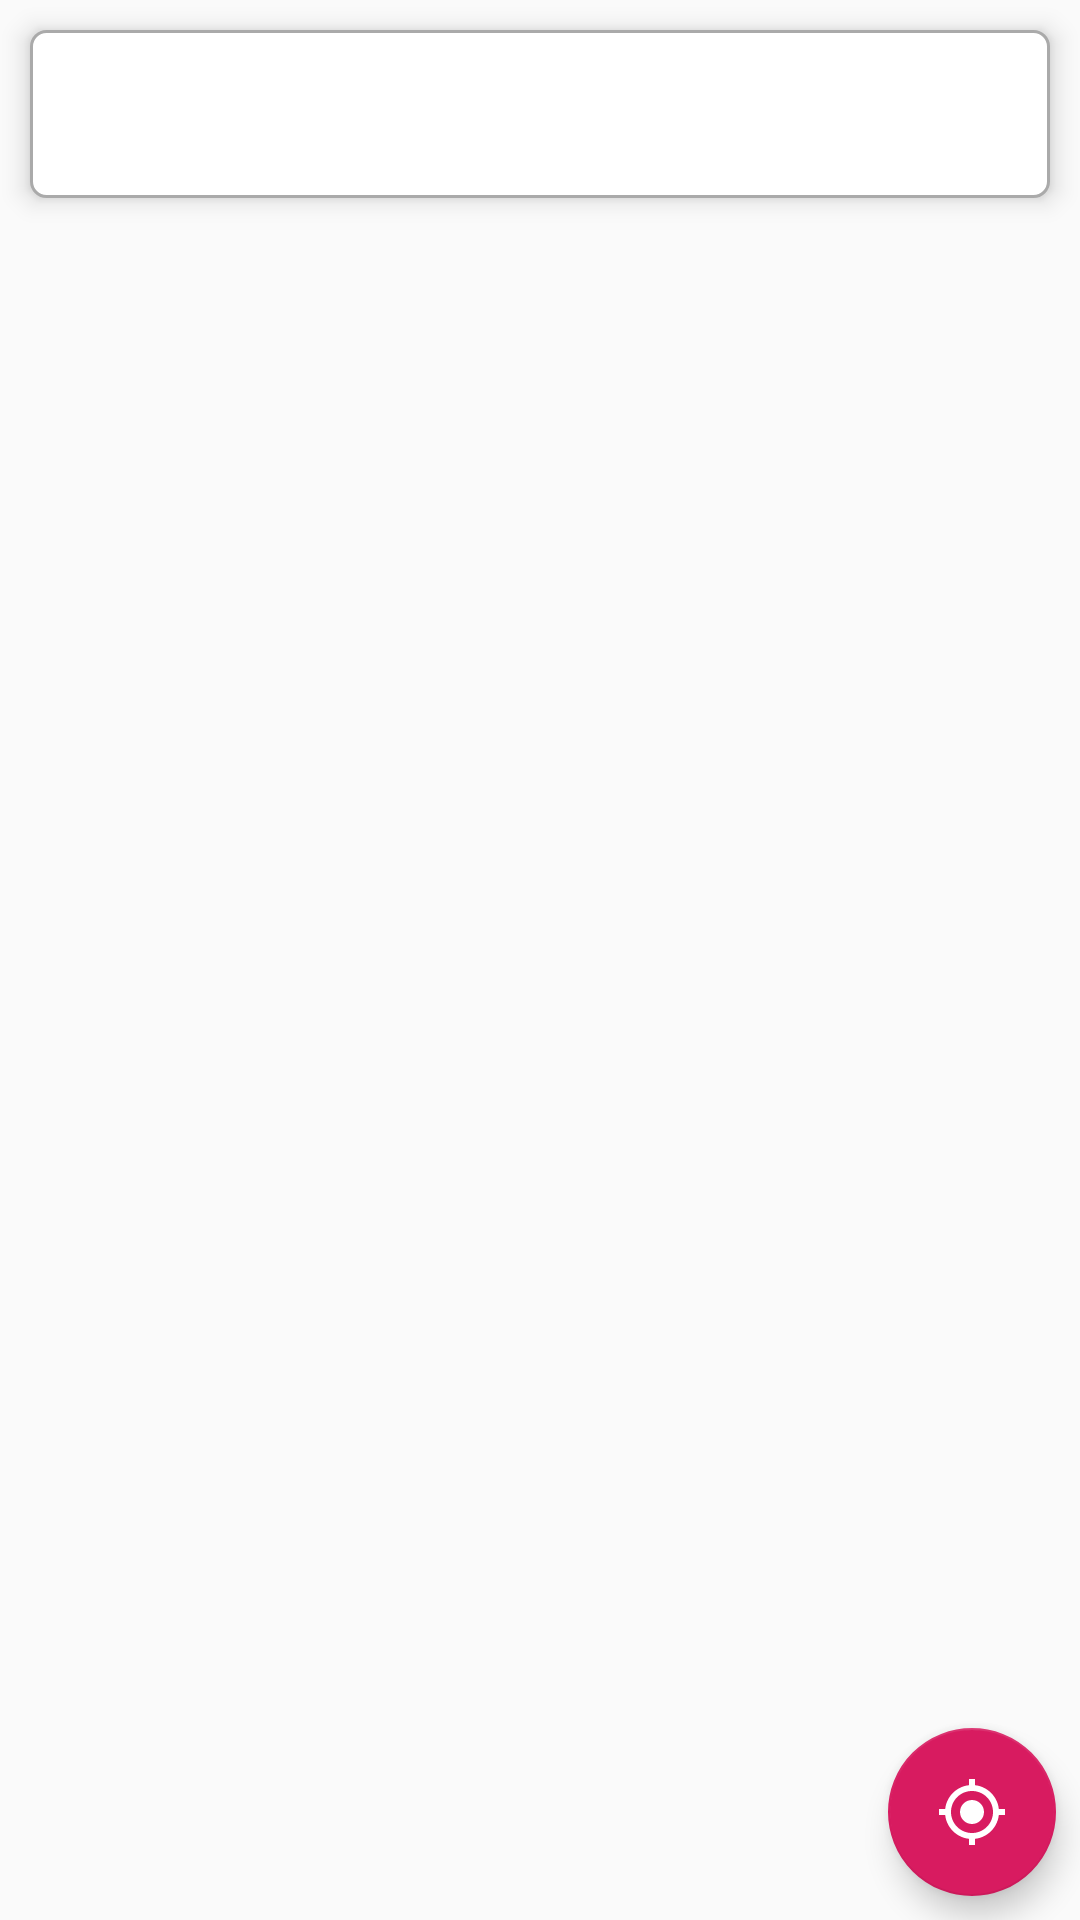

Point at icon controls on the screen. Image size 1080 × 1920, points as (x,y).
location: (972,1812)
